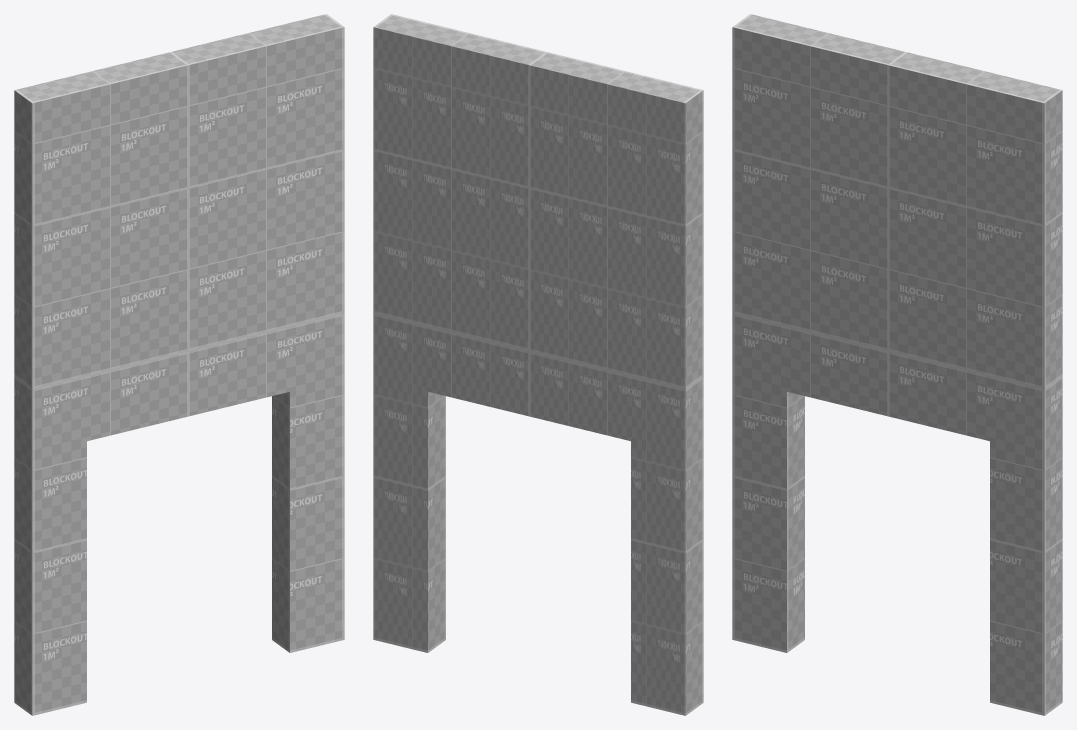
Rendered from BlockoutThinWall04DoubleDoor.fbx.
3 renders of one model, left to right at view 1: azimuth 30°, elevation 25°; view 2: azimuth 150°, elevation 25°; view 3: azimuth 330°, elevation 25°, orthographic.
Parts seen in each view (by area): view 1: BlockoutThinWall04DoubleDoor; view 2: BlockoutThinWall04DoubleDoor; view 3: BlockoutThinWall04DoubleDoor.
Boxes of the visible parts, box(x1,y1,x2,y2) form: BlockoutThinWall04DoubleDoor: box(14, 14, 344, 715); BlockoutThinWall04DoubleDoor: box(373, 14, 703, 715); BlockoutThinWall04DoubleDoor: box(732, 14, 1062, 715).
Size of the model in its own units: 400 by 750 by 40.
